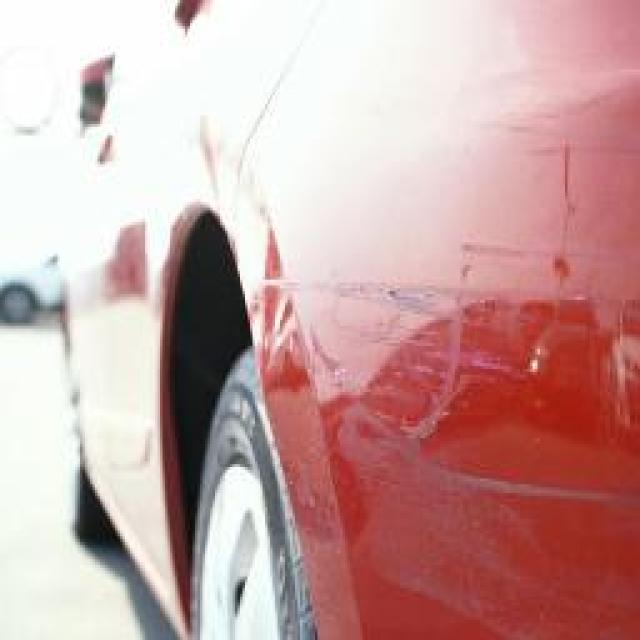Bumper: (236, 225, 640, 556)
